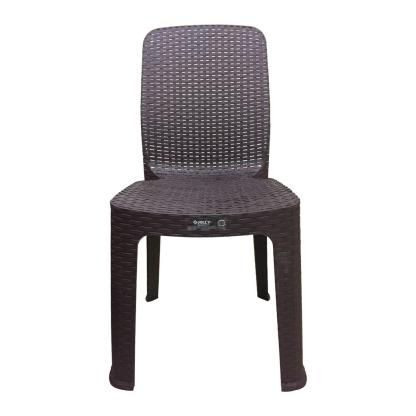chair: (106, 18, 321, 402)
